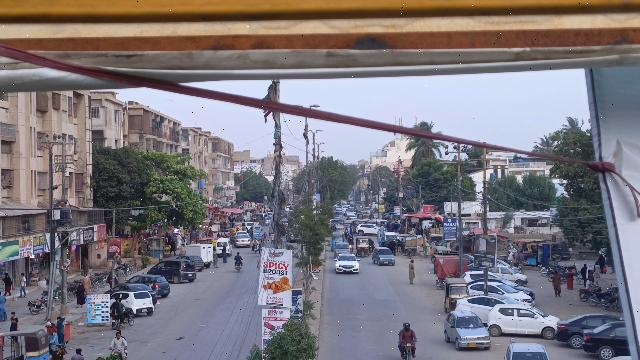Bike: (110, 307, 135, 332), (399, 338, 417, 359), (109, 347, 127, 360), (233, 261, 243, 275)
Car: (488, 303, 559, 340), (444, 309, 492, 351), (556, 313, 611, 349), (579, 318, 624, 357), (454, 293, 517, 319), (150, 259, 198, 284), (130, 272, 172, 298), (504, 342, 550, 360), (333, 252, 361, 274), (371, 246, 397, 267)
Person: (399, 318, 418, 343), (74, 281, 88, 309), (110, 329, 127, 351), (54, 315, 67, 342), (406, 258, 418, 286), (550, 270, 562, 298), (49, 343, 66, 360), (9, 311, 20, 331), (580, 263, 589, 286), (71, 345, 84, 360), (593, 261, 601, 285), (111, 296, 120, 315), (47, 328, 58, 343), (118, 297, 126, 315), (233, 250, 243, 263), (586, 263, 594, 279)
Rickshaw: (442, 277, 468, 312)
Truck: (183, 242, 213, 267)
